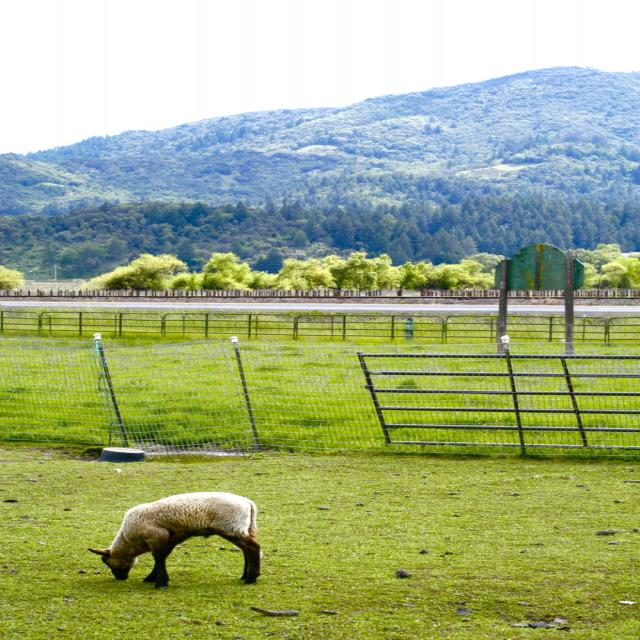Sheep: (86, 491, 261, 587)
